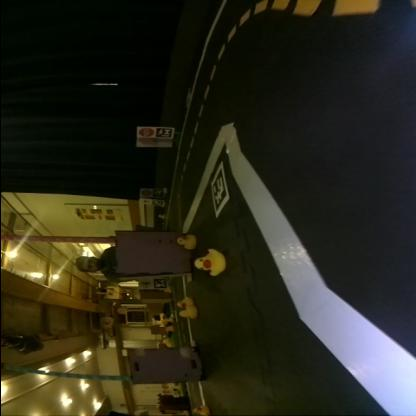Duckie: (196, 249, 224, 274), (176, 234, 194, 249), (178, 307, 196, 318), (175, 297, 191, 306), (194, 405, 208, 414), (157, 213, 165, 219)
Intersection sign: (138, 279, 150, 288)
QR code: (209, 164, 228, 216), (154, 127, 172, 138), (152, 278, 166, 288), (152, 189, 162, 196), (151, 199, 161, 205)
Stop sign: (136, 126, 152, 136), (138, 188, 150, 196)
